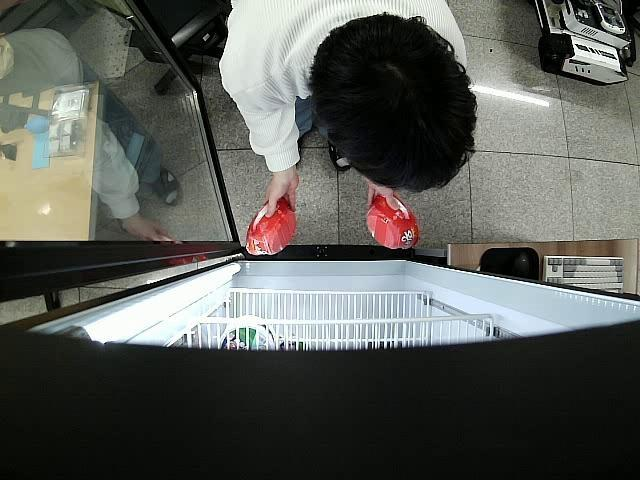10_wangTtukkeong: (366, 194, 420, 251), (246, 198, 299, 256)
